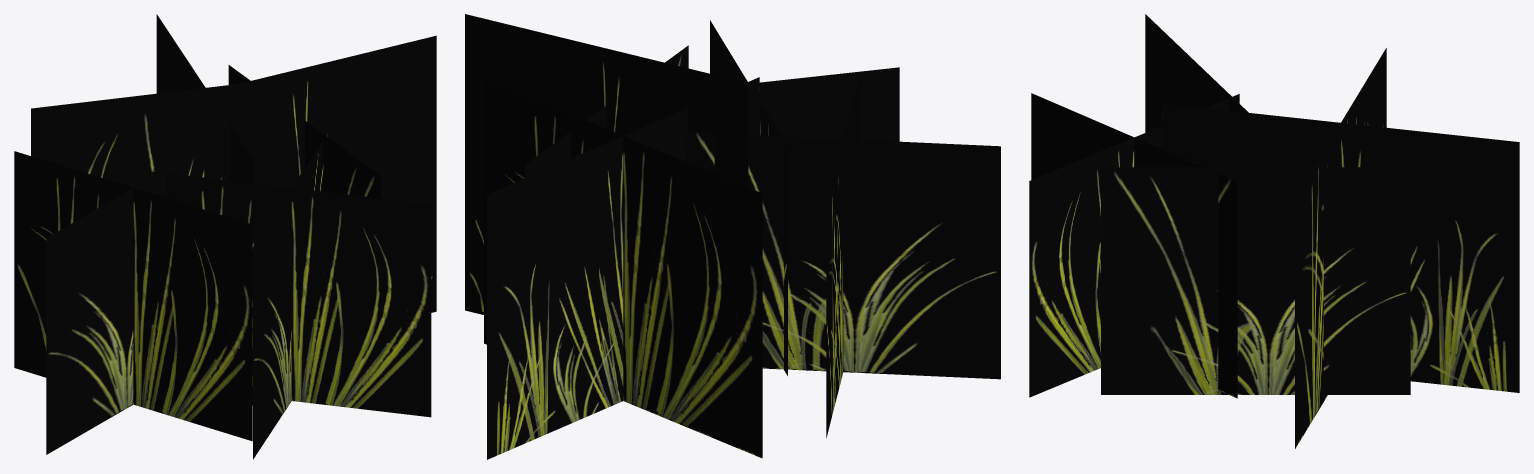
The model's file is grass_patch3.fbx.
3 renders of one model, left to right at view 1: azimuth 30°, elevation 25°; view 2: azimuth 150°, elevation 25°; view 3: azimuth 270°, elevation 25°, orthographic. The views are drawn at different scales.
Visible parts, largest first — view 1: Plane.001; view 2: Plane.001; view 3: Plane.001.
Part boxes in pixels (bbox=[...]): Plane.001: bbox=[14, 14, 436, 459]; Plane.001: bbox=[465, 14, 1000, 459]; Plane.001: bbox=[1029, 14, 1519, 448].
Size of the model in its own units: 32.17 by 19.61 by 30.23.
